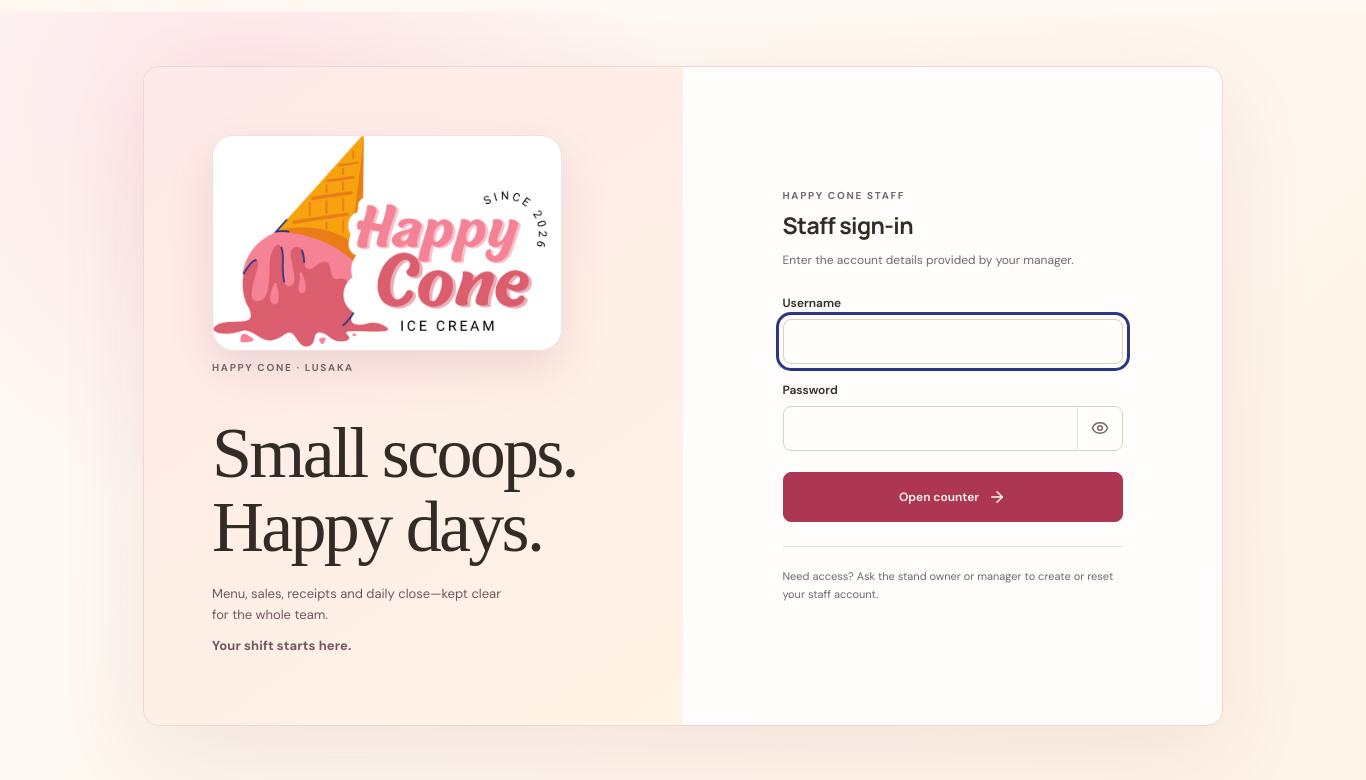
Test: first-time guidance › lets staff reveal and hide the password before sign-in
Type "first-day-password" into the password field labelled "Password" at x=952, y=428, box [782,406,1122,451]
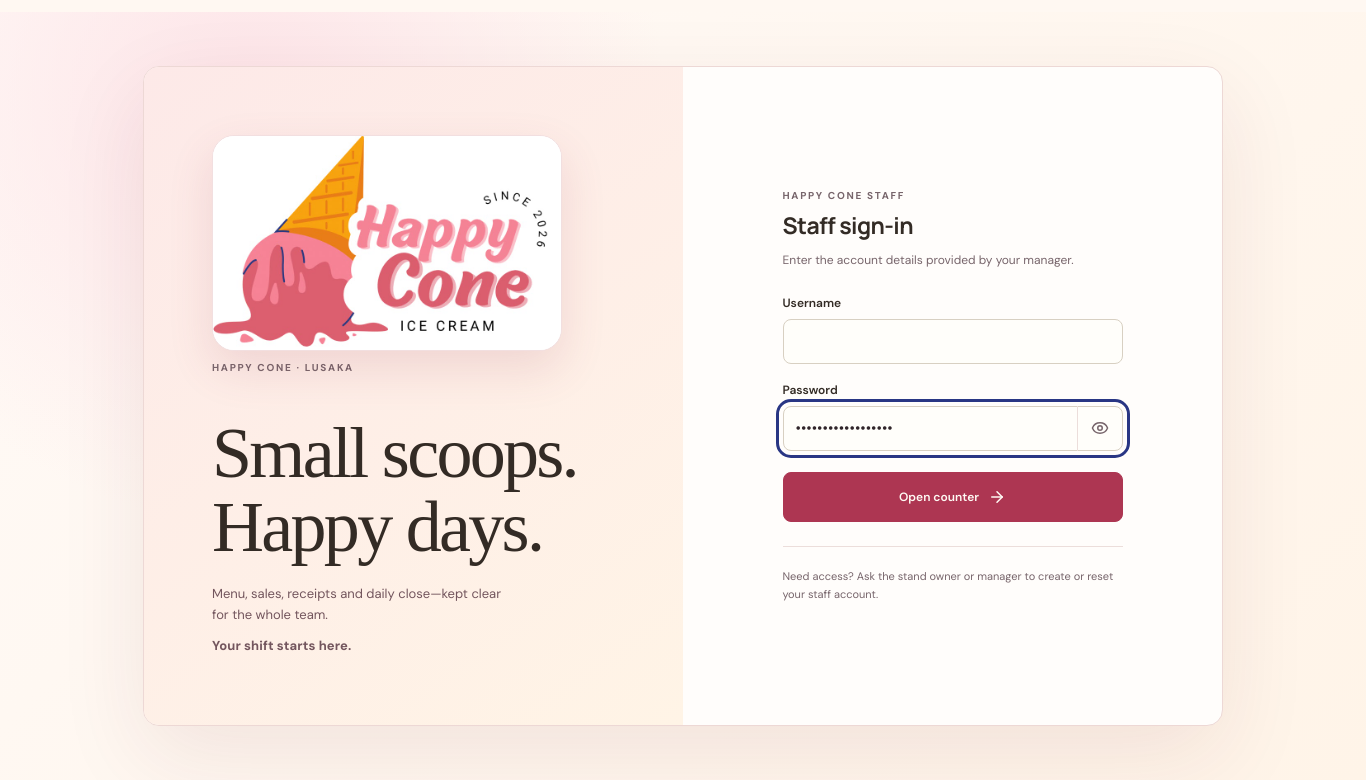
Click the button named "Show password" at x=1100, y=428, box [1076,406,1122,451]
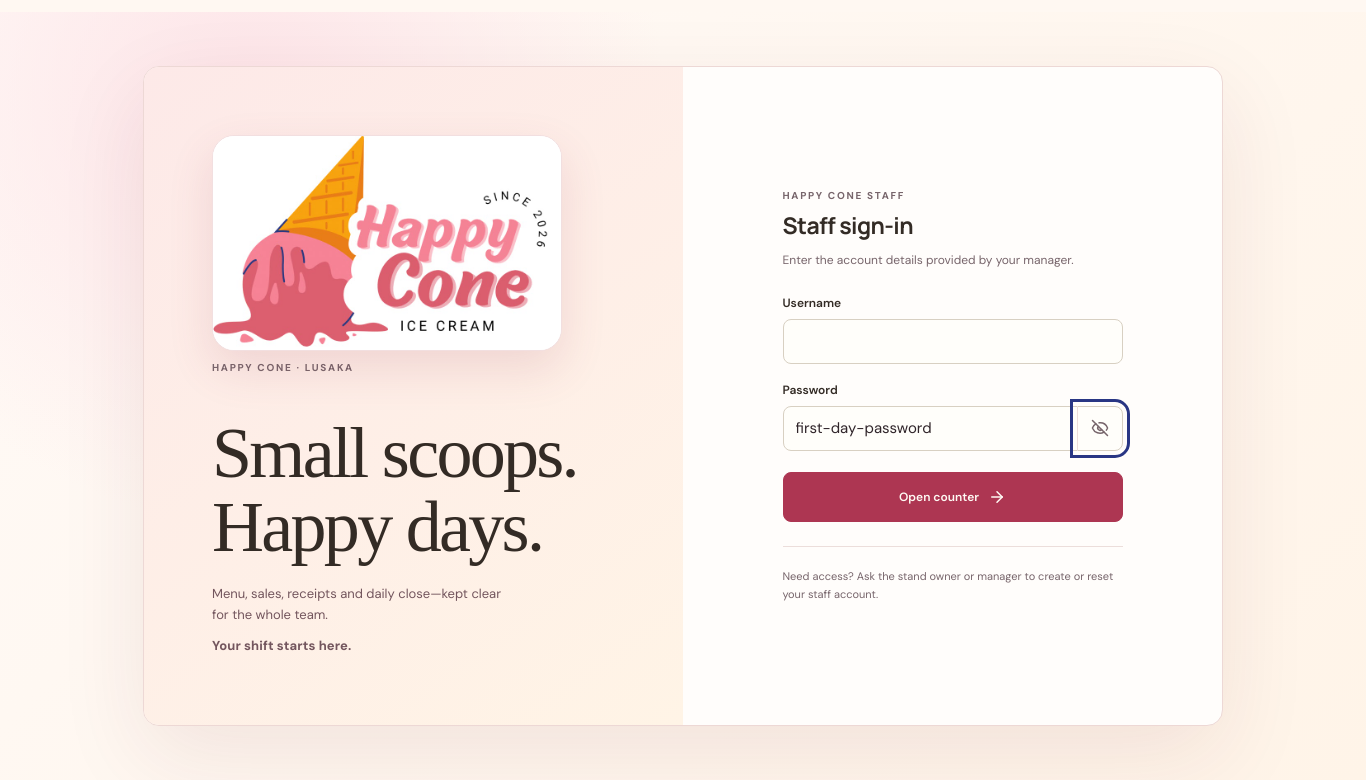
Check: the field labelled "Password" shows its text, box [782,406,1122,451]
Click the button named "Hide password" at x=1100, y=428, box [1076,406,1122,451]
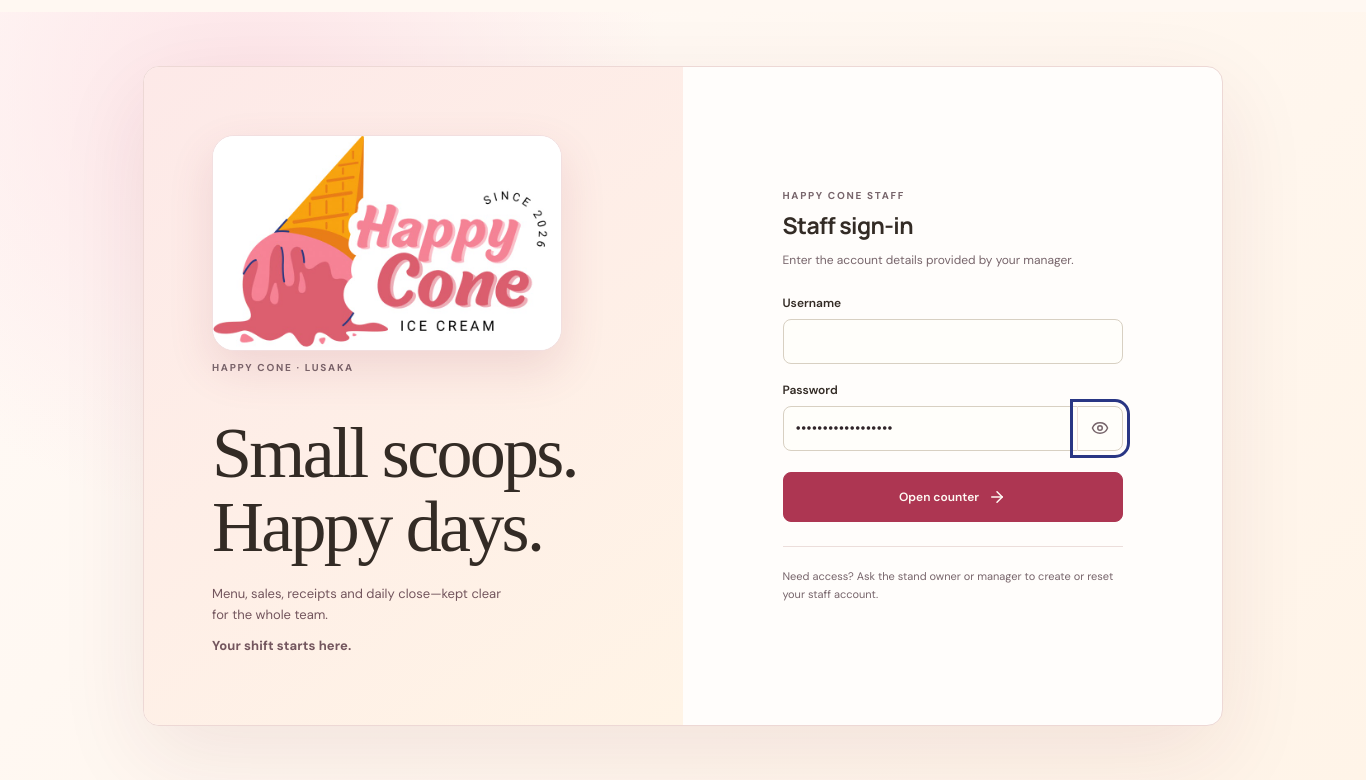
Check: the password field labelled "Password" hides its text, box [782,406,1122,451]
